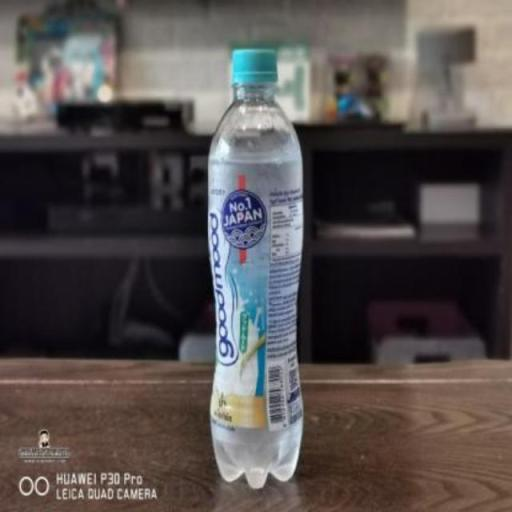Coca: (199, 42, 308, 498)
